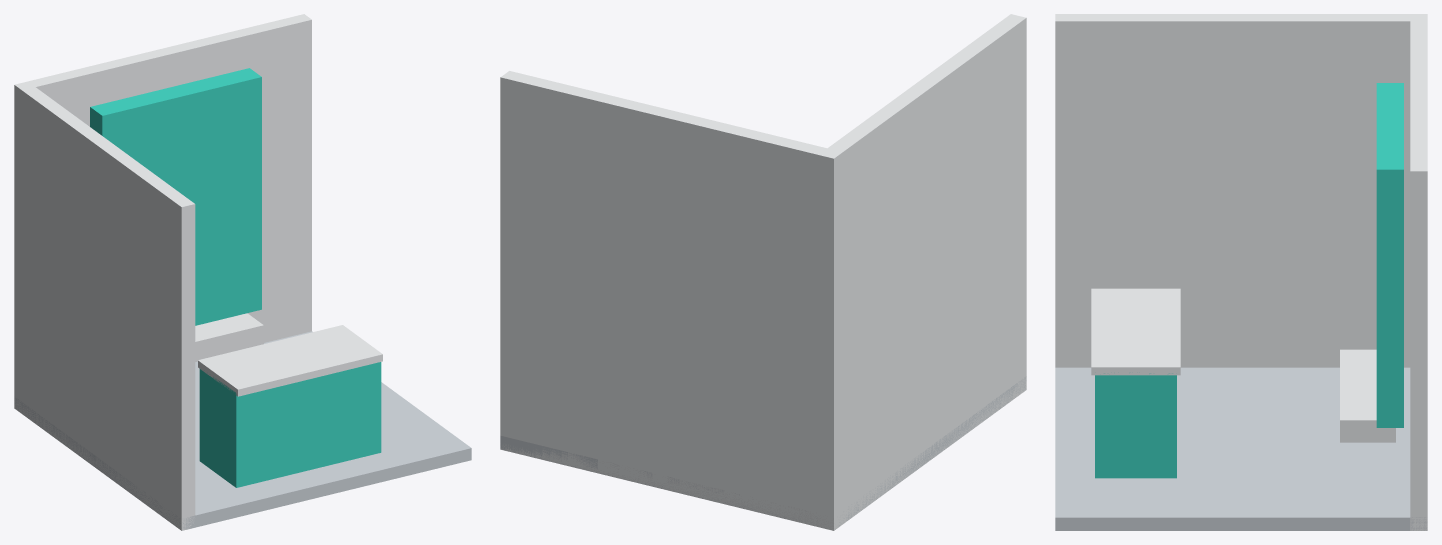
The picture shows the model from 3 angles, left to right: view 1: azimuth 30°, elevation 25°; view 2: azimuth 150°, elevation 25°; view 3: azimuth 270°, elevation 25°; orthographic projection. The views are drawn at different scales.
Visible parts, largest first — view 1: Exhibition Booth Concept; view 2: Exhibition Booth Concept; view 3: Exhibition Booth Concept.
Part boxes in pixels (<box>): Exhibition Booth Concept: <box>14,14,471,530</box>; Exhibition Booth Concept: <box>500,14,1026,530</box>; Exhibition Booth Concept: <box>1055,14,1427,530</box>.
Bounding box in the file's own units: 3 × 3.2 × 3.
